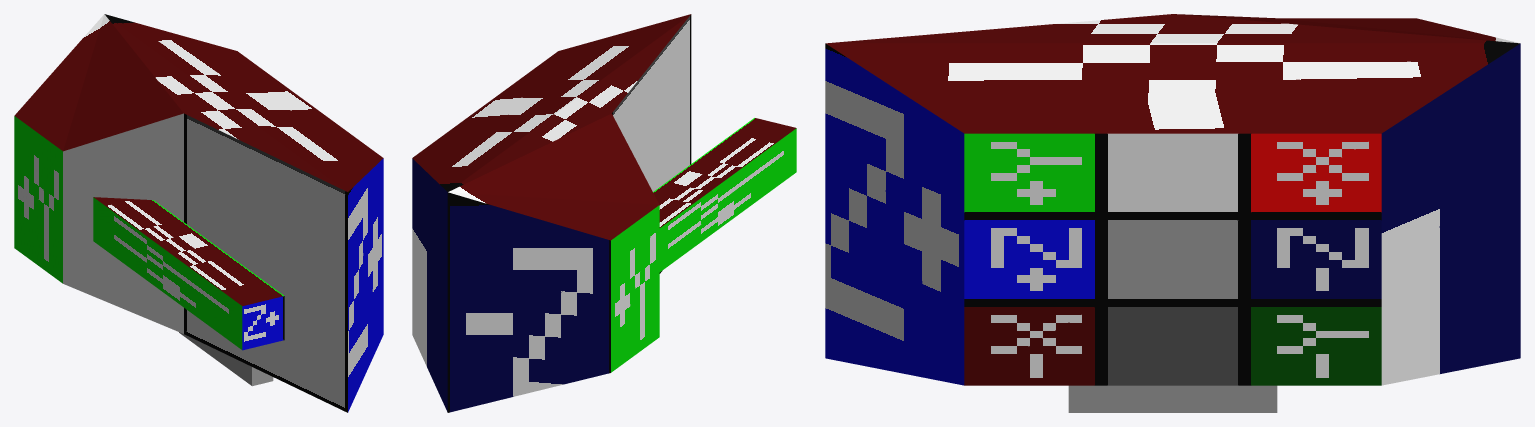
Rendered from heavytank1+z+x.obj.
The picture shows the model from 3 angles, left to right: view 1: azimuth 30°, elevation 25°; view 2: azimuth 150°, elevation 25°; view 3: azimuth 270°, elevation 25°; orthographic projection. The views are drawn at different scales.
Parts seen in each view (by area): view 1: Cube; view 2: Cube; view 3: Cube.
Boxes of the visible parts, x1,y1,x2,y2 form: Cube: (14, 14, 383, 412); Cube: (412, 14, 796, 412); Cube: (825, 14, 1520, 412).
Size of the model in its own units: 1 by 1.15 by 2.
